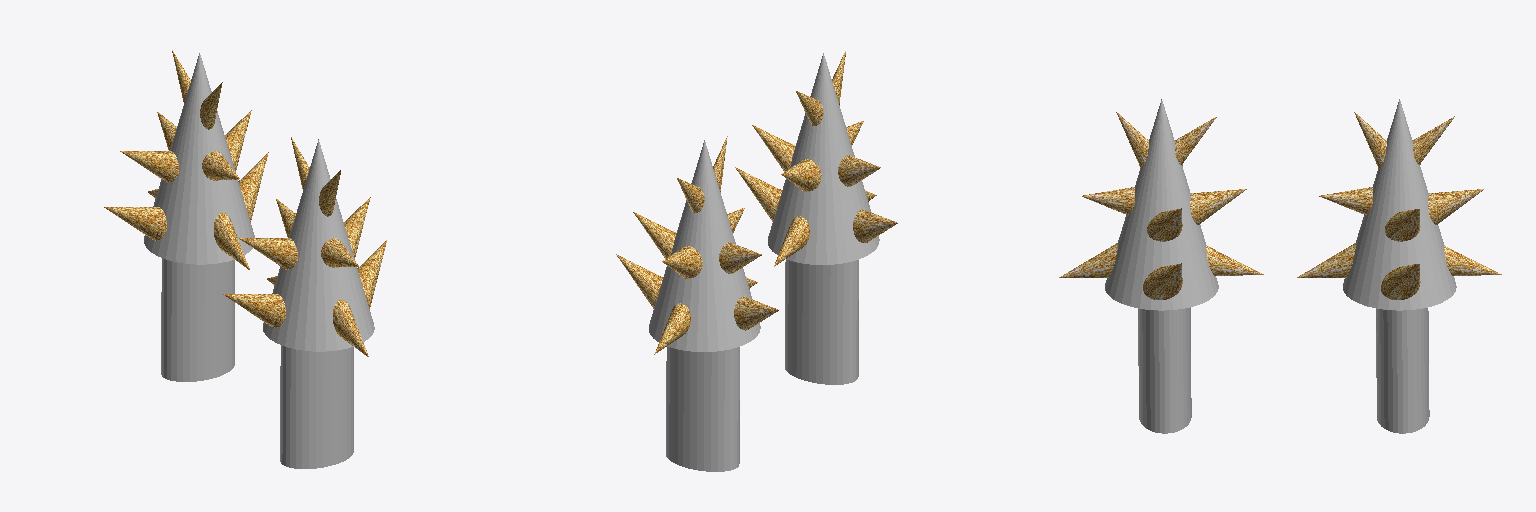
3 renders of one model, left to right at view 1: azimuth 30°, elevation 25°; view 2: azimuth 150°, elevation 25°; view 3: azimuth 270°, elevation 25°, orthographic.
Visible parts, largest first — view 1: Cone, Cone.022, Cylinder.001, Cylinder.002, Cone.010, Cone.013, Cone.007, Cone.015, Cone.018, Cone.004, Cone.012, Cone.011 (+6 smaller); view 2: Cone, Cone.022, Cylinder.001, Cylinder.002, Cone.010, Cone.013, Cone.011, Cone.012, Cone.019, Cone.021, Cone.001, Cone.003 (+4 smaller); view 3: Cone.022, Cone, Cylinder.001, Cylinder.002, Cone.011, Cone.012, Cone.001, Cone.021, Cone.004, Cone.018, Cone.009, Cone.014 (+8 smaller).
Part boxes in pixels (bbox=[...]): Cone: bbox=[263, 139, 374, 351]; Cone.022: bbox=[144, 53, 254, 264]; Cylinder.001: bbox=[280, 345, 353, 468]; Cylinder.002: bbox=[161, 258, 234, 381]; Cone.010: bbox=[223, 294, 285, 327]; Cone.013: bbox=[104, 207, 166, 240]; Cone.007: bbox=[239, 238, 297, 269]; Cone.015: bbox=[120, 151, 178, 182]; Cone.018: bbox=[214, 213, 249, 269]; Cone.004: bbox=[333, 300, 368, 356]; Cone.012: bbox=[238, 152, 268, 221]; Cone.011: bbox=[357, 240, 386, 308]; Cone: bbox=[768, 53, 879, 264]; Cone.022: bbox=[649, 140, 760, 351]; Cylinder.001: bbox=[785, 260, 858, 384]; Cylinder.002: bbox=[666, 347, 739, 471]; Cone.010: bbox=[853, 209, 897, 242]; Cone.013: bbox=[734, 296, 778, 330]; Cone.011: bbox=[735, 167, 781, 221]; Cone.012: bbox=[616, 254, 662, 308]; Cone.019: bbox=[654, 303, 690, 354]; Cone.021: bbox=[662, 246, 702, 278]; Cone.001: bbox=[781, 159, 821, 191]; Cone.003: bbox=[774, 216, 809, 266]; Cone.022: bbox=[1343, 99, 1456, 310]; Cone: bbox=[1105, 99, 1218, 310]; Cylinder.001: bbox=[1138, 307, 1191, 433]; Cylinder.002: bbox=[1376, 308, 1429, 433]; Cone.011: bbox=[1143, 263, 1182, 299]; Cone.012: bbox=[1381, 264, 1420, 299]; Cone.001: bbox=[1190, 189, 1246, 224]; Cone.021: bbox=[1428, 189, 1483, 224]; Cone.004: bbox=[1059, 243, 1117, 277]; Cone.018: bbox=[1297, 243, 1355, 277]; Cone.009: bbox=[1147, 208, 1182, 241]; Cone.014: bbox=[1385, 209, 1420, 241].
Size of the model in its own units: 1.49 by 2.76 by 3.49.
Materials: 24 (1 with a texture image).